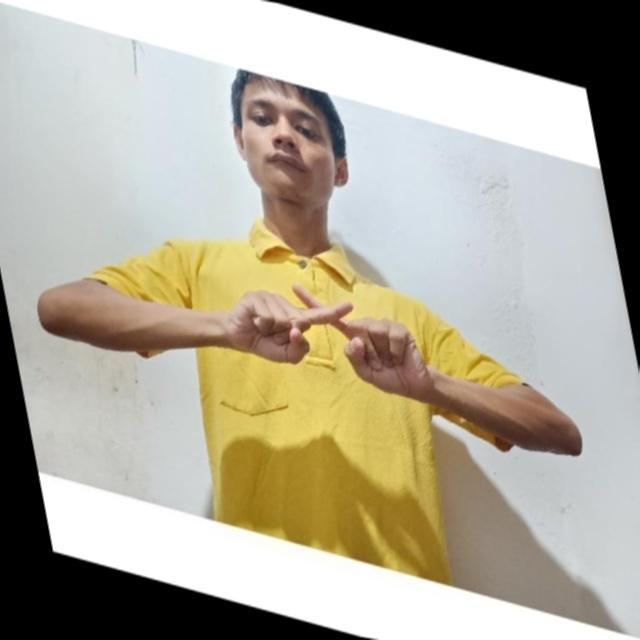X: (240, 283, 422, 389)
